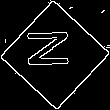N_E: (29, 34, 81, 76)
